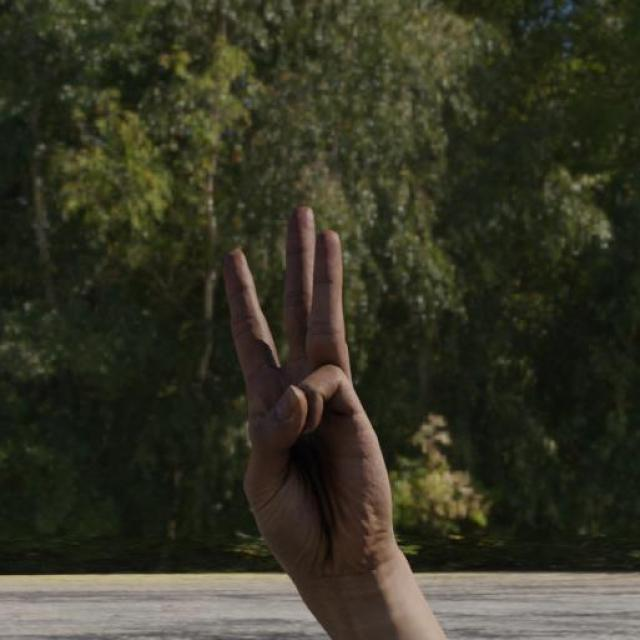W: (218, 201, 432, 613)
